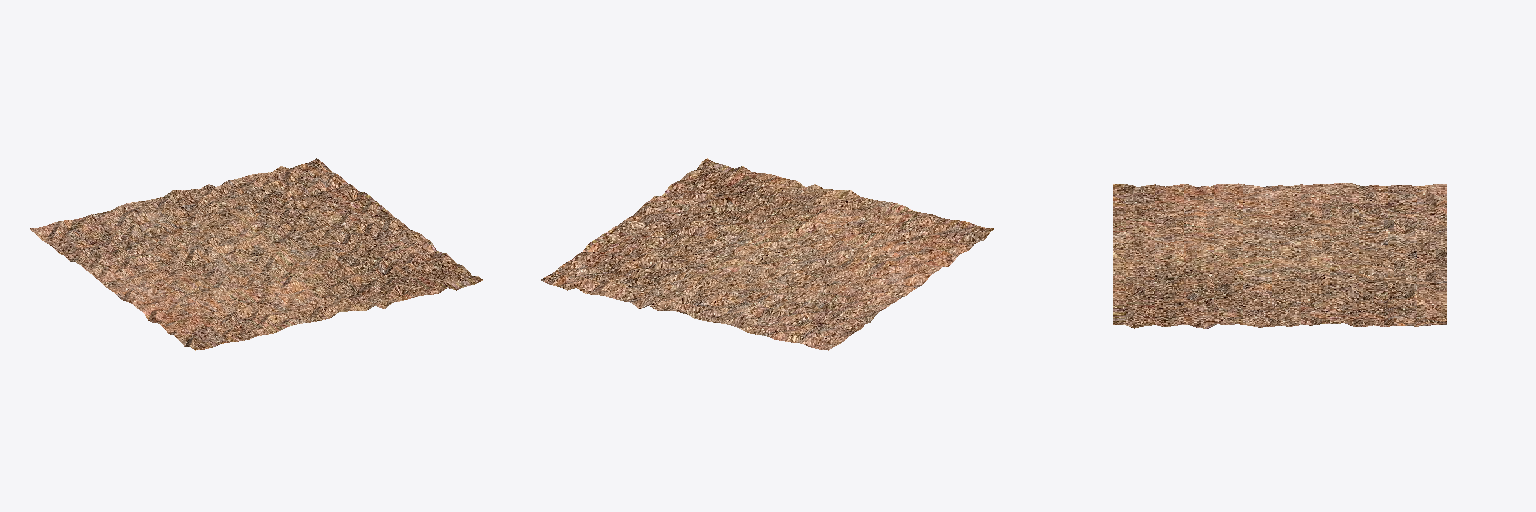
3 renders of one model, left to right at view 1: azimuth 30°, elevation 25°; view 2: azimuth 150°, elevation 25°; view 3: azimuth 270°, elevation 25°, orthographic.
Parts seen in each view (by area): view 1: 平面; view 2: 平面; view 3: 平面.
Boxes of the visible parts, box(x1,y1,x2,y2) form: 平面: box(30, 158, 482, 350); 平面: box(541, 158, 993, 350); 平面: box(1113, 183, 1446, 328).
Bounding box in the file's own units: 20 × 0.7615 × 20.
1 materials, 1 textured.